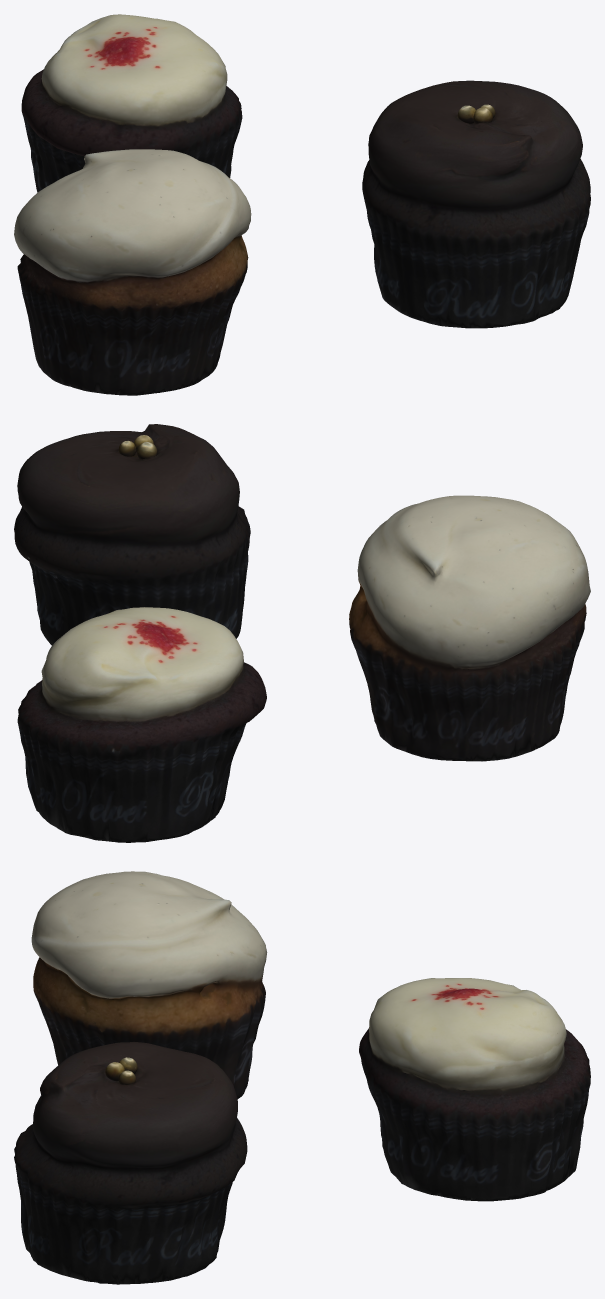
Rendered from Cupcakes.FBX.
3 views of the same model, one above another, from view 1: azimuth 30°, elevation 25°; view 2: azimuth 150°, elevation 25°; view 3: azimuth 270°, elevation 25° (orthographic). The views are drawn at different scales.
Parts seen in each view (by area): view 1: Cupcakes; view 2: Cupcakes; view 3: Cupcakes.
Part boxes in pixels (x1,y1,x2,y2): Cupcakes: (14, 14, 590, 395); Cupcakes: (14, 424, 590, 842); Cupcakes: (14, 871, 590, 1284).
Bounding box in the file's own units: 3.11 × 1.09 × 2.88.
1 material, 1 textured.
